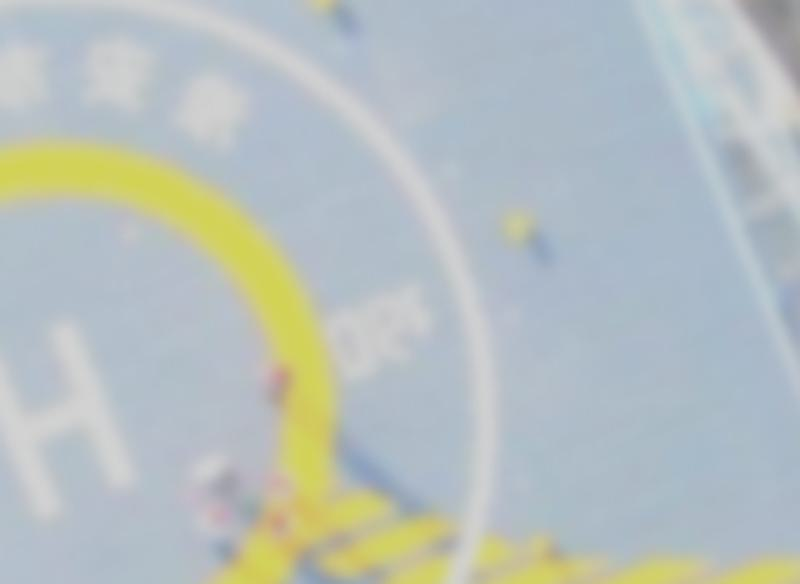Apron: (4, 127, 370, 580)
